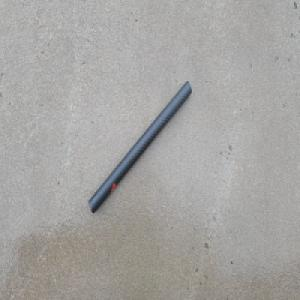LuggagePart: (88, 79, 191, 214)
